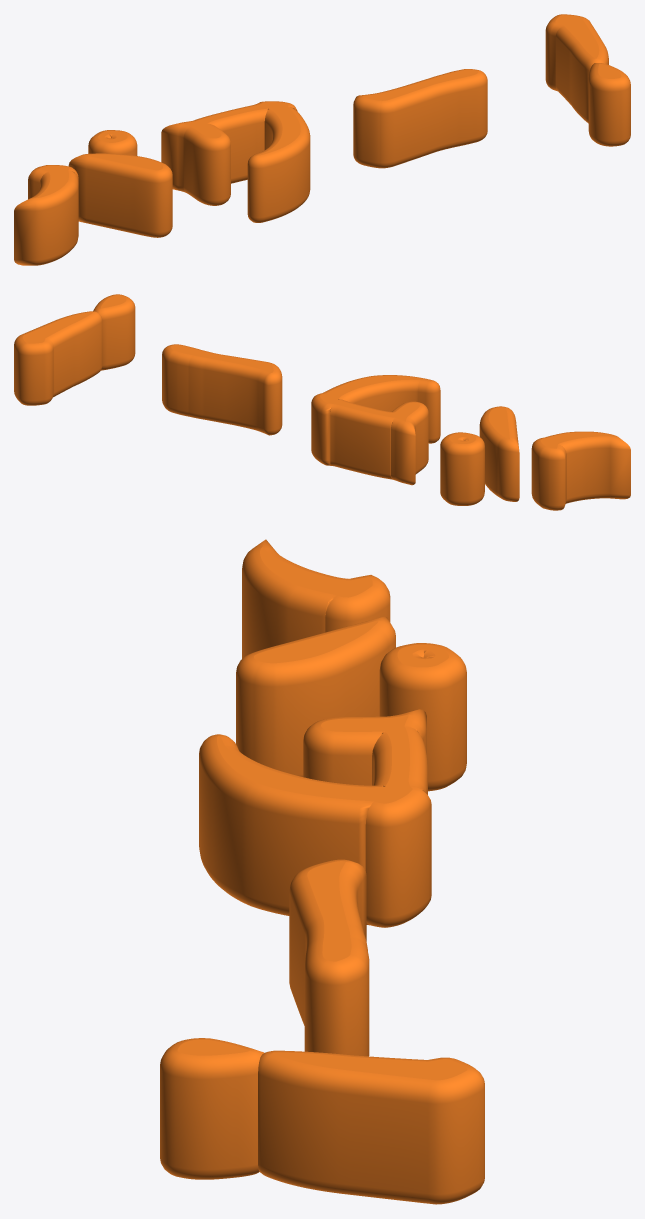
3 views of the same model, one above another, from view 1: azimuth 30°, elevation 25°; view 2: azimuth 150°, elevation 25°; view 3: azimuth 270°, elevation 25° (orthographic). The views are drawn at different scales.
Visible parts, largest first — view 1: テキスト; view 2: テキスト; view 3: テキスト.
Boxes of the visible parts, x1,y1,x2,y2 form: テキスト: (14, 14, 630, 265); テキスト: (14, 294, 630, 510); テキスト: (160, 539, 484, 1204).
Bounding box in the file's own units: 3.71 × 0.38 × 0.9142.
